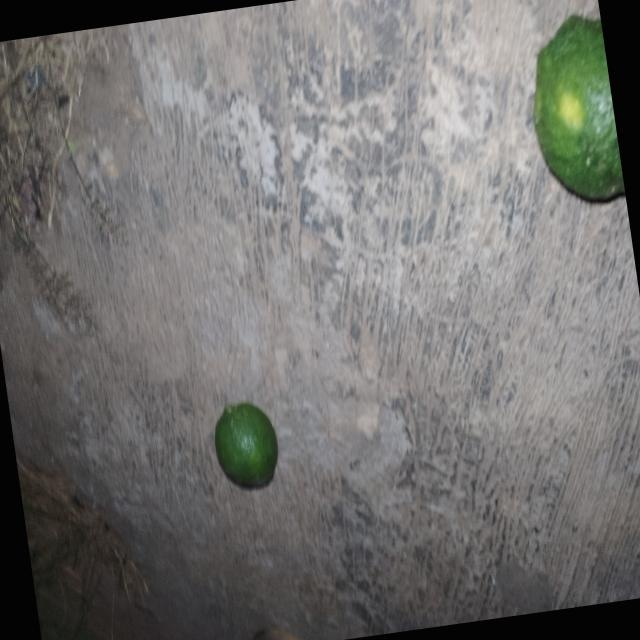agrume: (511, 0, 630, 244), (192, 379, 299, 528)
